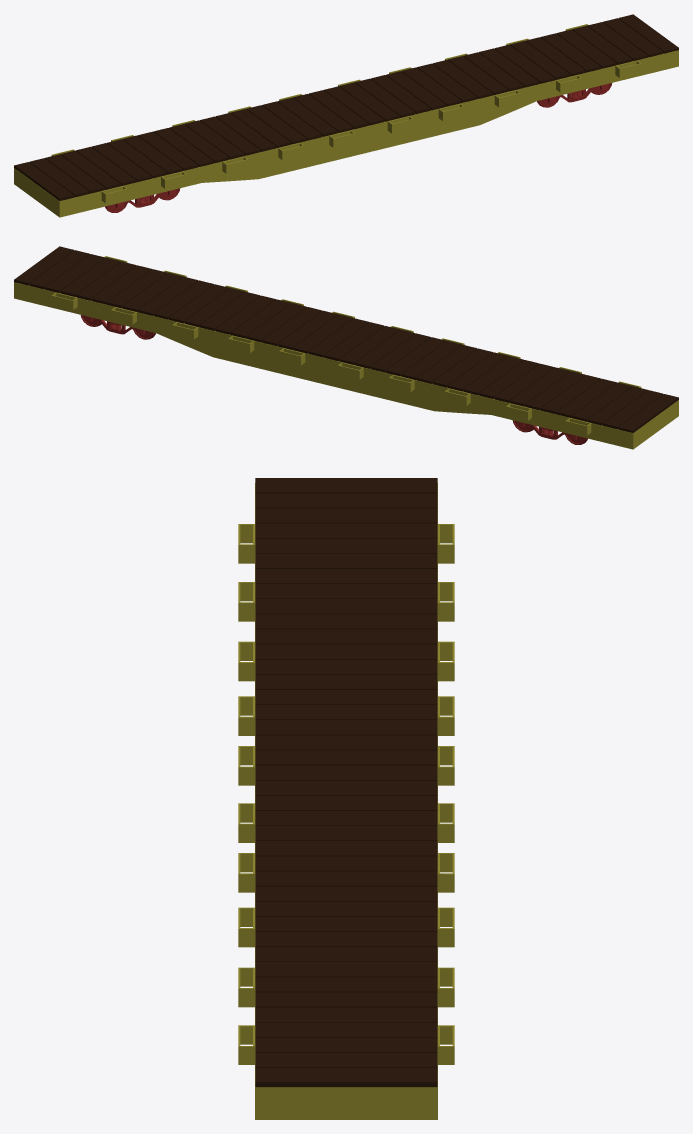
The model's file is flatbed_body.glb.
3 renders of one model, top to bottom at view 1: azimuth 30°, elevation 25°; view 2: azimuth 150°, elevation 25°; view 3: azimuth 270°, elevation 25°, orthographic. The views are drawn at different scales.
Parts seen in each view (by area): view 1: Planks, Frame, Cube.001 (×2); view 2: Planks, Frame, Cube.003 (×2); view 3: Planks, Frame.
Boxes of the visible parts, left/top/right/bottom form: Planks: left=14, top=14, right=678, bottom=200; Frame: left=14, top=24, right=678, bottom=217; Cube.001 (×2): left=113, top=83, right=608, bottom=208; Planks: left=14, top=246, right=678, bottom=432; Frame: left=14, top=256, right=678, bottom=449; Cube.003 (×2): left=84, top=315, right=579, bottom=440; Planks: left=255, top=478, right=437, bottom=1087; Frame: left=238, top=483, right=454, bottom=1119.
Bounding box in the file's own units: 21.5 × 1.28 × 3.25.
